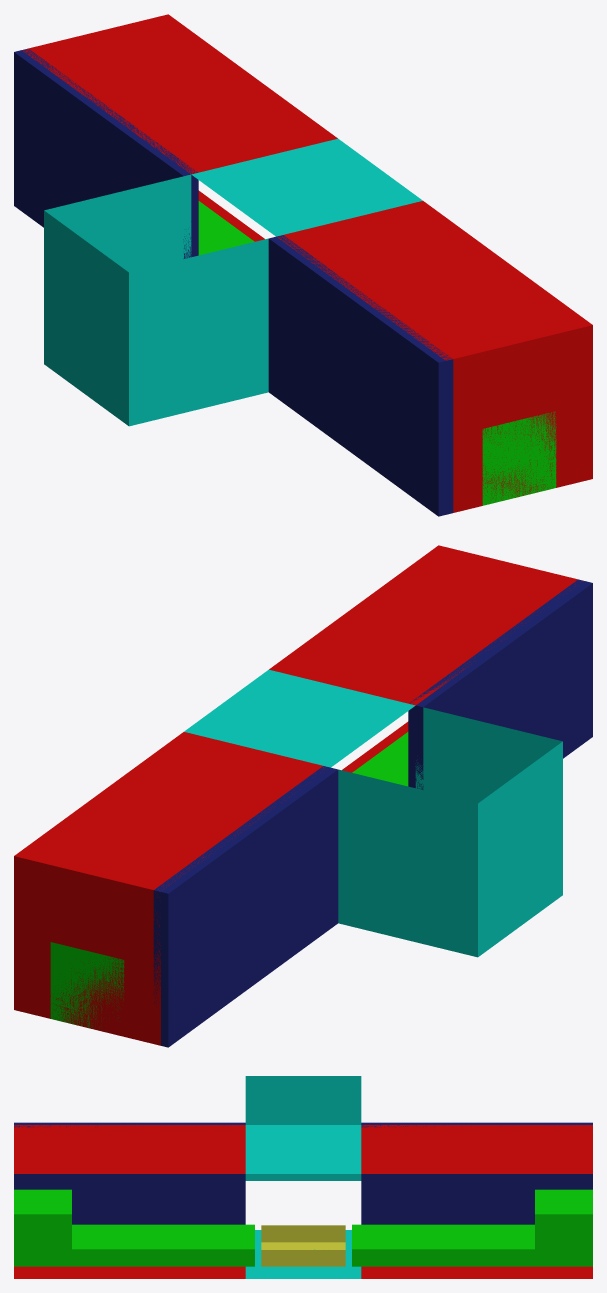
The model's file is Mine.fbx.
3 views of the same model, one above another, from view 1: azimuth 30°, elevation 25°; view 2: azimuth 150°, elevation 25°; view 3: azimuth 270°, elevation 25° (orthographic). The views are drawn at different scales.
Visible parts, largest first — view 1: KistenRaum_Stockwerk_1, Minenschacht_Links_Stockwerk_1, Rohstoff_Links, Minenschacht_Rechts_Stockwerk_1, Rohstoff_Rechts, Abbaumaschine_Links, Abbaumaschine_Rechts; view 2: KistenRaum_Stockwerk_1, Minenschacht_Rechts_Stockwerk_1, Rohstoff_Rechts, Minenschacht_Links_Stockwerk_1, Rohstoff_Links, Abbaumaschine_Rechts, Abbaumaschine_Links; view 3: Minenschacht_Links_Stockwerk_1, Minenschacht_Rechts_Stockwerk_1, KistenRaum_Stockwerk_1, Abbaumaschine_Rechts, Abbaumaschine_Links, Rohstoff_Rechts, Rohstoff_Links, Kiste.
Part boxes in pixels (x1,y1,x2,y2): KistenRaum_Stockwerk_1: (44, 138, 422, 426); Minenschacht_Links_Stockwerk_1: (277, 201, 592, 512); Rohstoff_Links: (268, 235, 453, 516); Minenschacht_Rechts_Stockwerk_1: (21, 14, 337, 241); Rohstoff_Rechts: (14, 48, 198, 258); Abbaumaschine_Links: (482, 411, 556, 505); Abbaumaschine_Rechts: (198, 201, 254, 255); KistenRaum_Stockwerk_1: (184, 669, 562, 957); Minenschacht_Rechts_Stockwerk_1: (14, 732, 323, 1045); Rohstoff_Rechts: (153, 766, 338, 1047); Minenschacht_Links_Stockwerk_1: (269, 545, 583, 772); Rohstoff_Links: (408, 579, 592, 789); Abbaumaschine_Rechts: (50, 942, 124, 1028); Abbaumaschine_Links: (352, 732, 408, 786); Minenschacht_Links_Stockwerk_1: (14, 1125, 245, 1278); Minenschacht_Rechts_Stockwerk_1: (361, 1125, 592, 1278); KistenRaum_Stockwerk_1: (245, 1076, 361, 1278); Abbaumaschine_Rechts: (352, 1189, 592, 1266); Abbaumaschine_Links: (14, 1189, 254, 1266); Rohstoff_Rechts: (361, 1122, 592, 1224); Rohstoff_Links: (14, 1122, 245, 1224); Kiste: (261, 1225, 345, 1266).
Bounding box in the file's own units: 400 × 200 × 1000.
